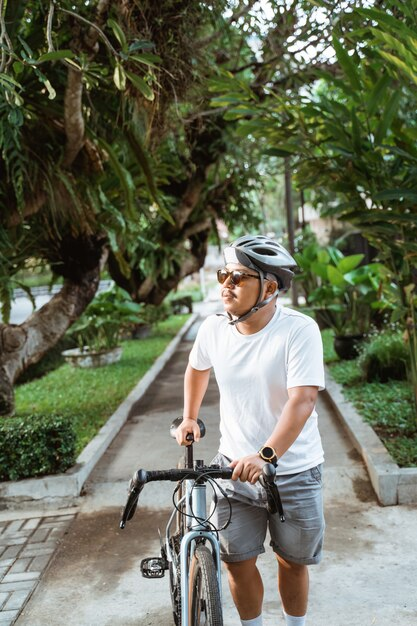helmet: (216, 233, 296, 318)
